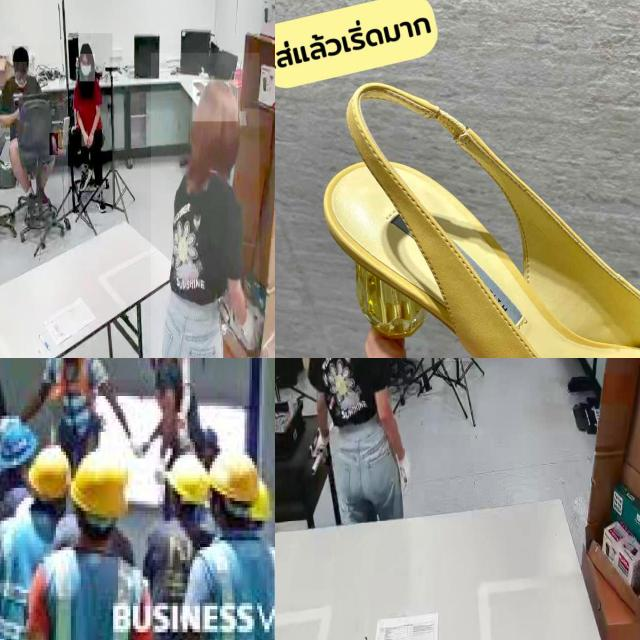Harness: (44, 358, 105, 459)
Sandals: (306, 79, 640, 358)
face_mask: (79, 54, 95, 81)
hand_glove: (241, 306, 257, 352), (395, 452, 411, 495), (314, 429, 331, 466)
hand_noglove: (50, 133, 59, 156), (86, 131, 94, 148), (82, 131, 88, 147)
head_nohelmet: (192, 80, 238, 122), (12, 46, 29, 62), (79, 40, 92, 54)
person: (151, 53, 260, 358), (305, 358, 408, 524), (0, 45, 56, 231), (68, 33, 113, 214)
shoes: (76, 160, 92, 195)
